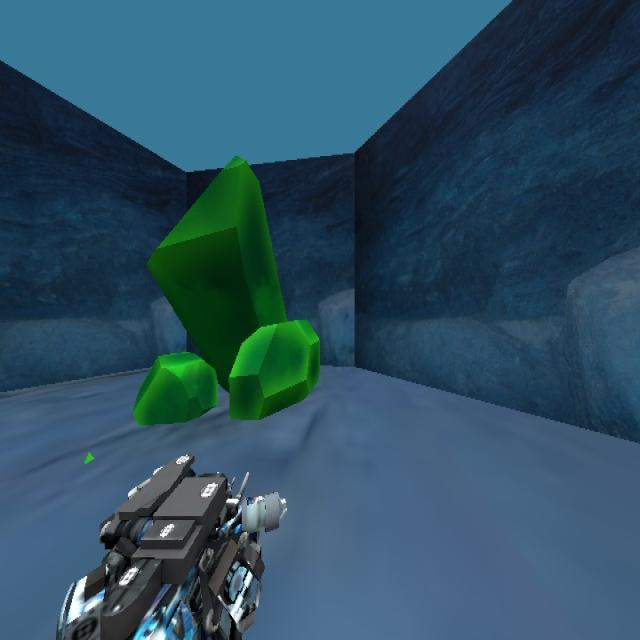Diamon: (132, 153, 321, 424), (132, 350, 218, 426)
